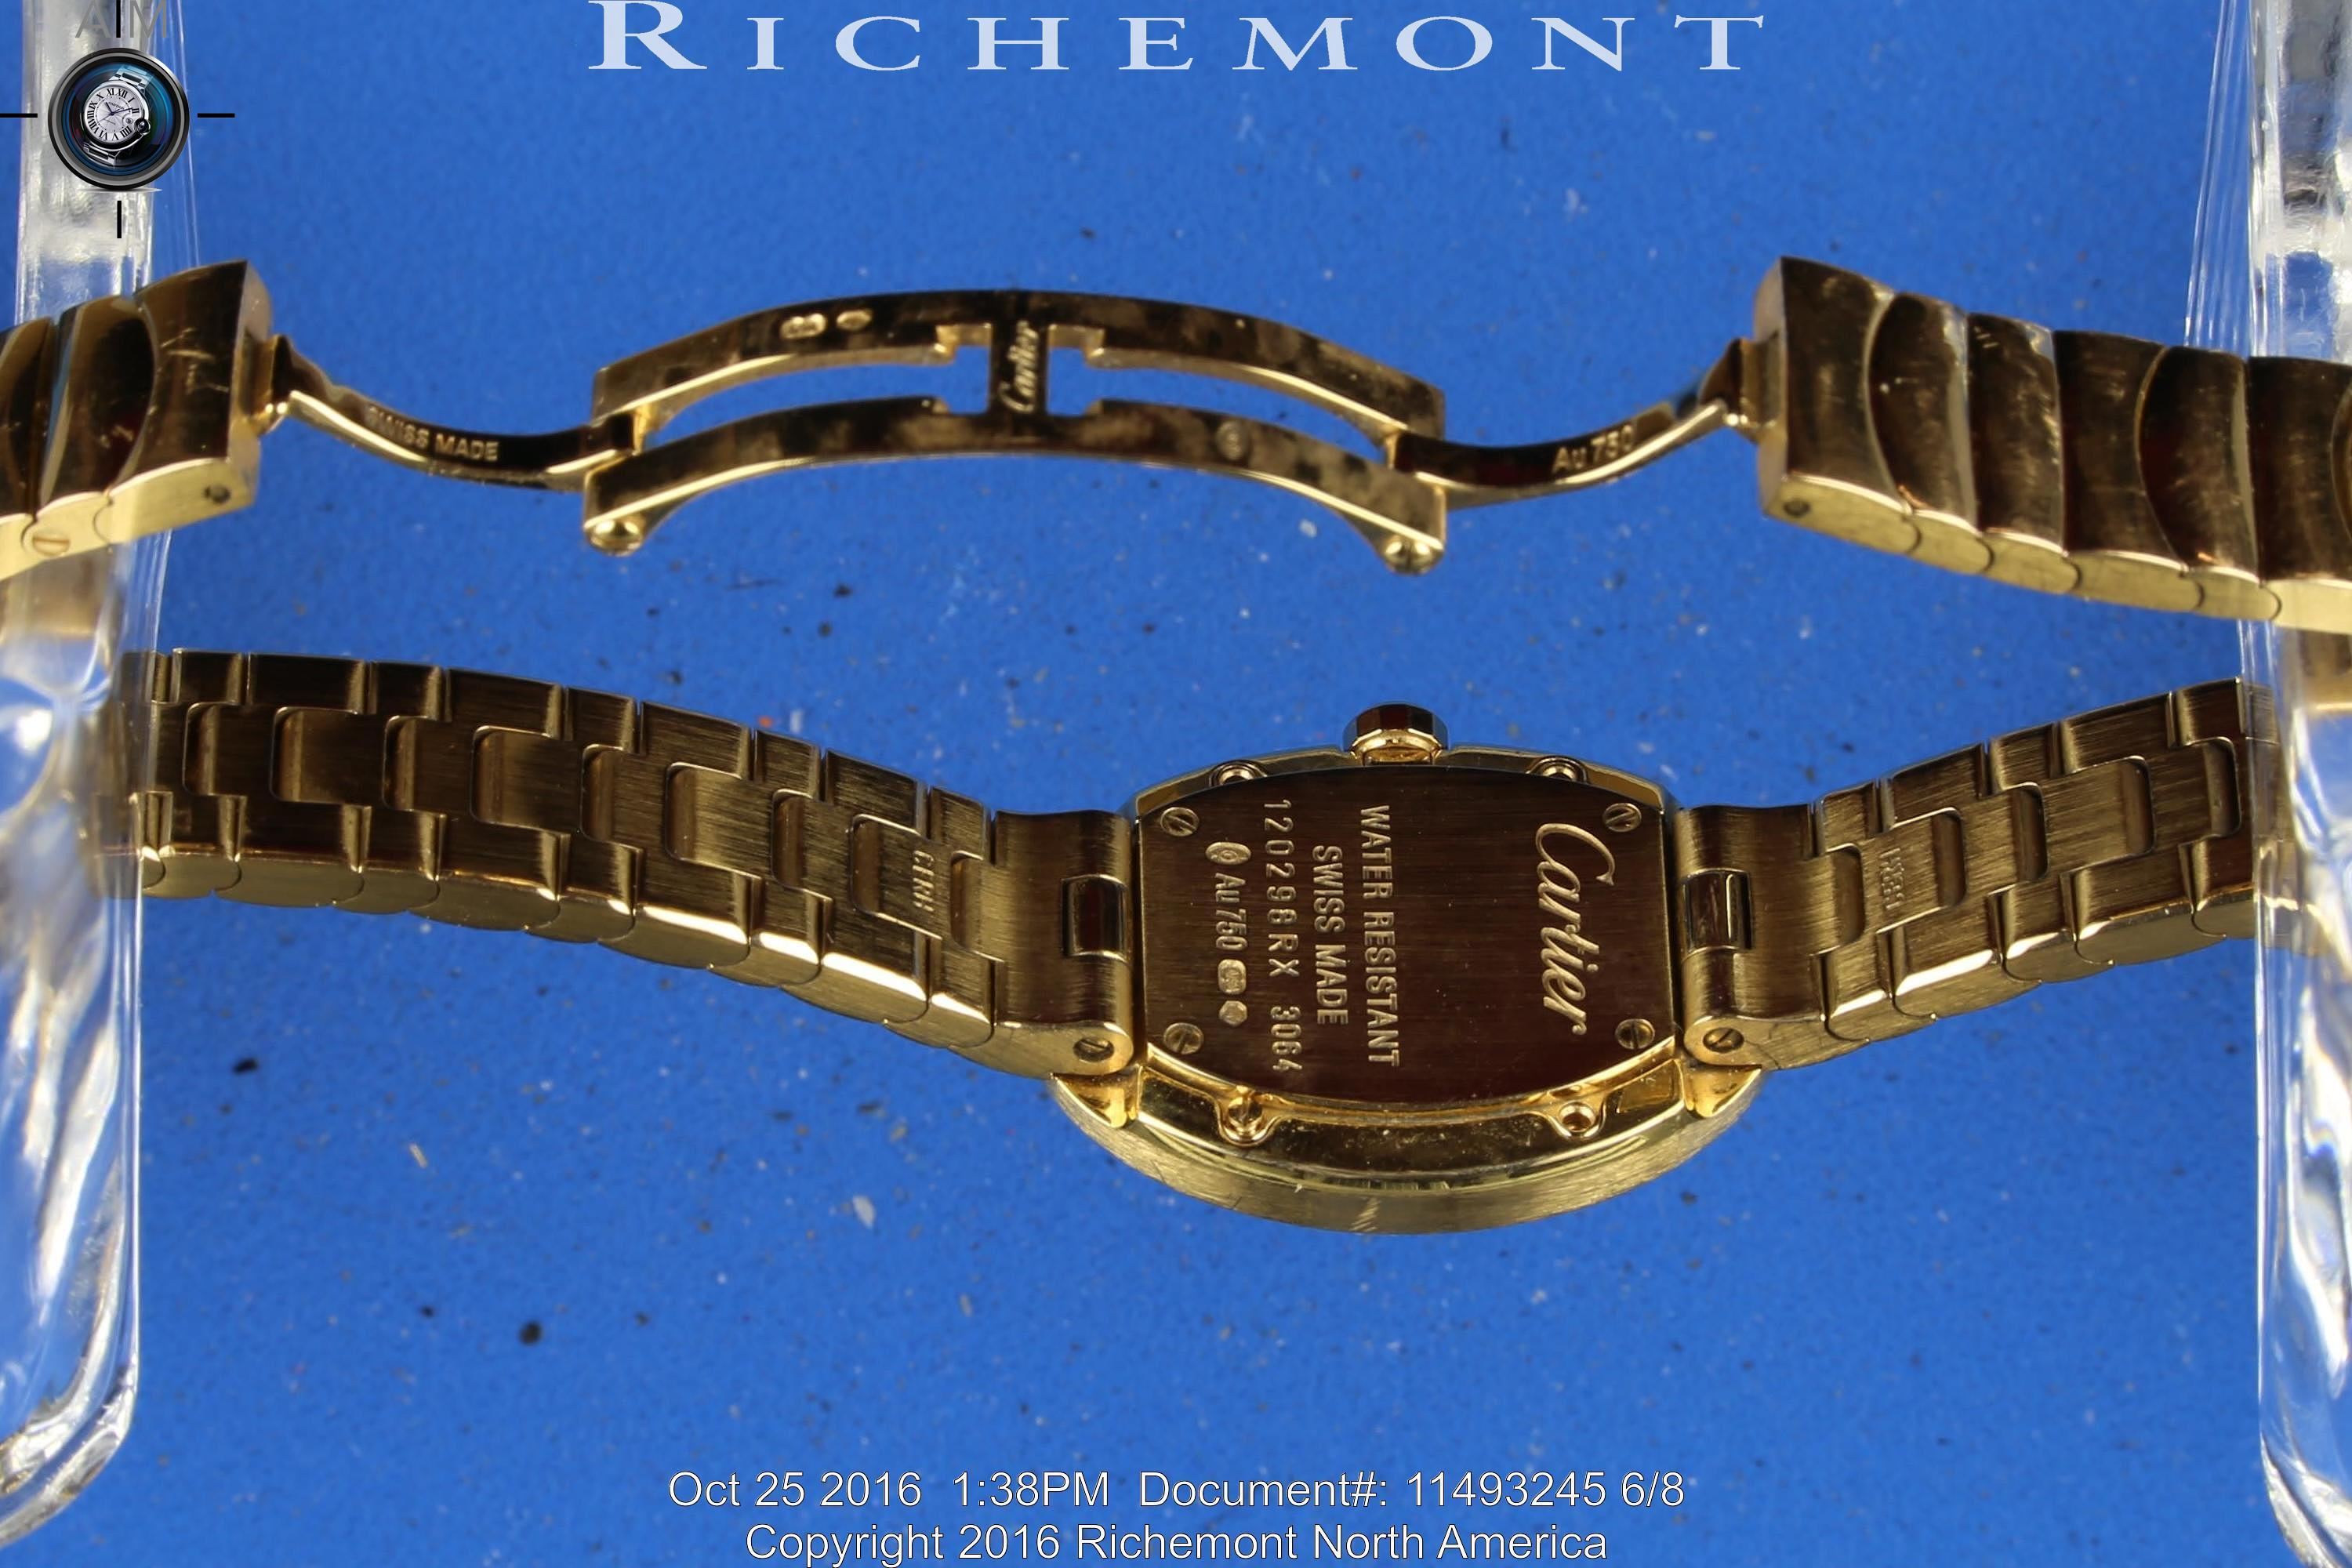Watch Back Case: (1050, 684, 1790, 1237)
